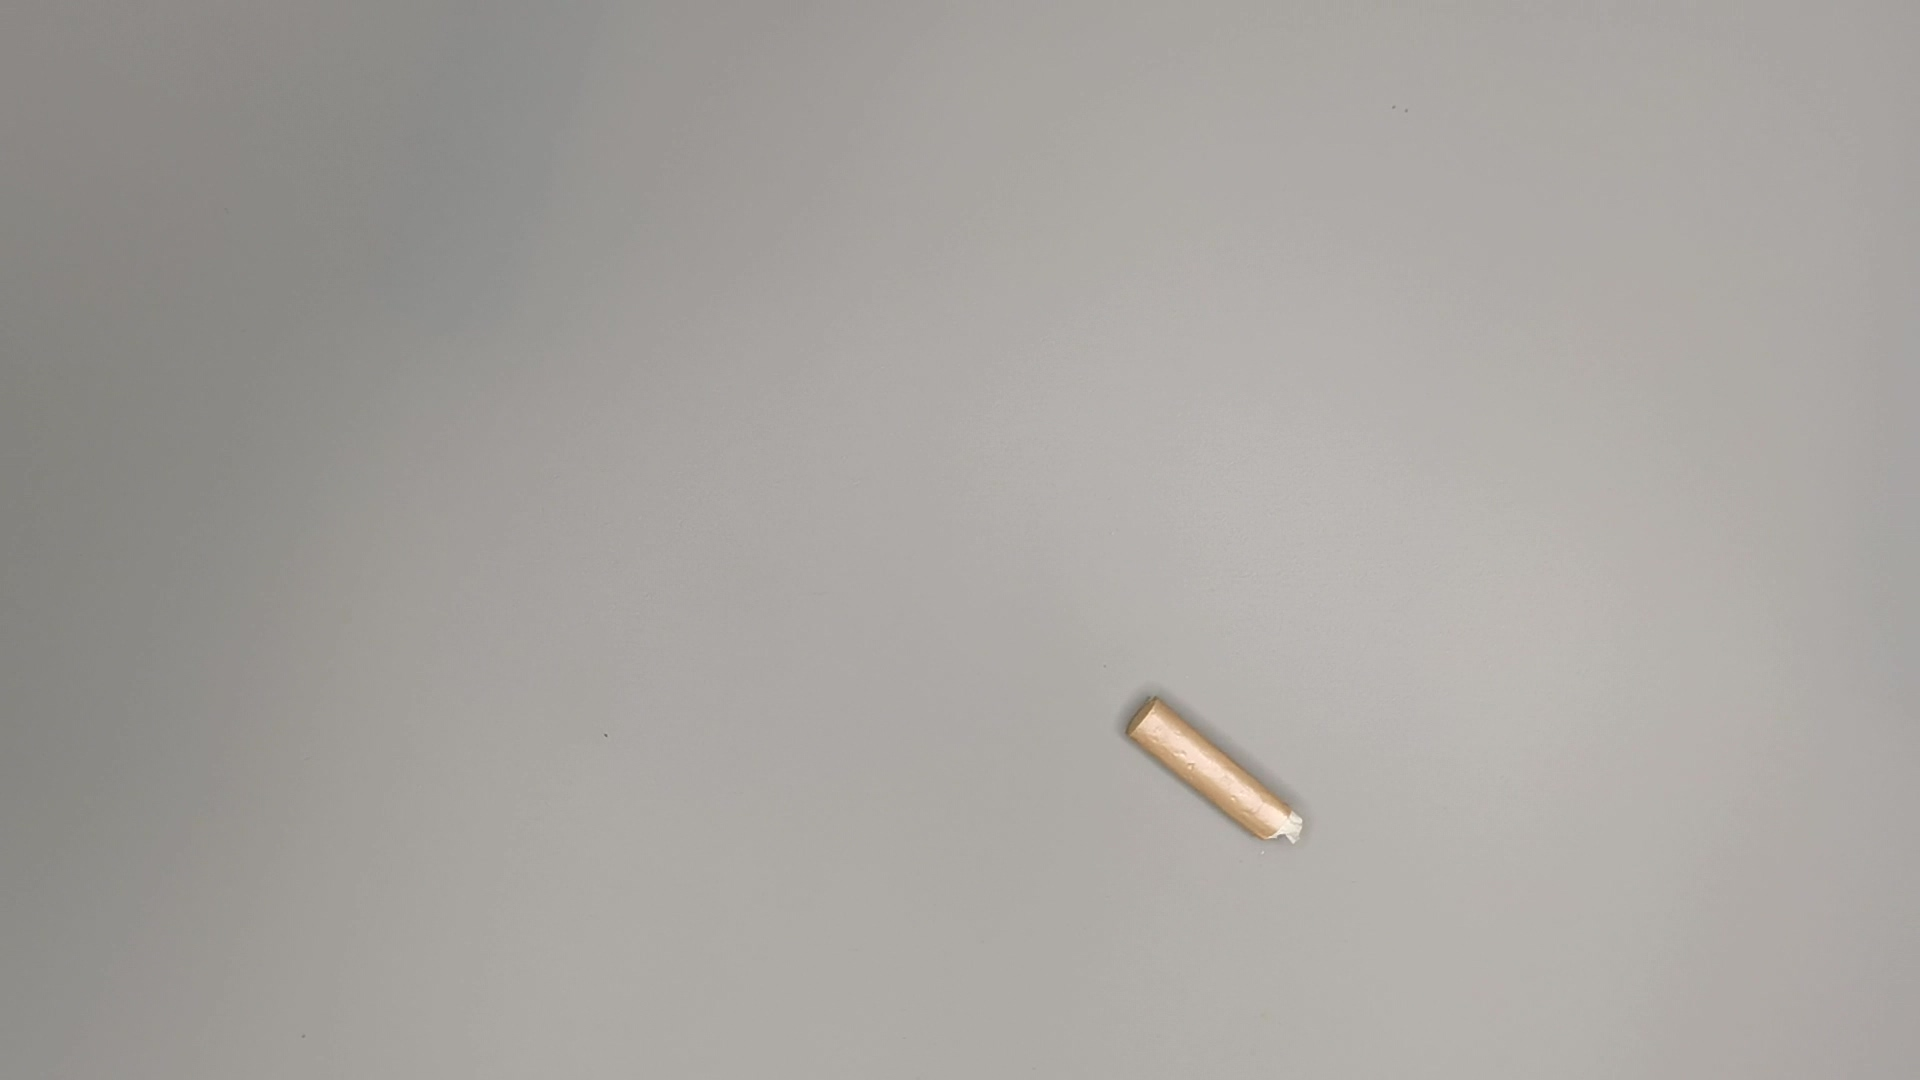cigarette: (1117, 691, 1311, 848)
